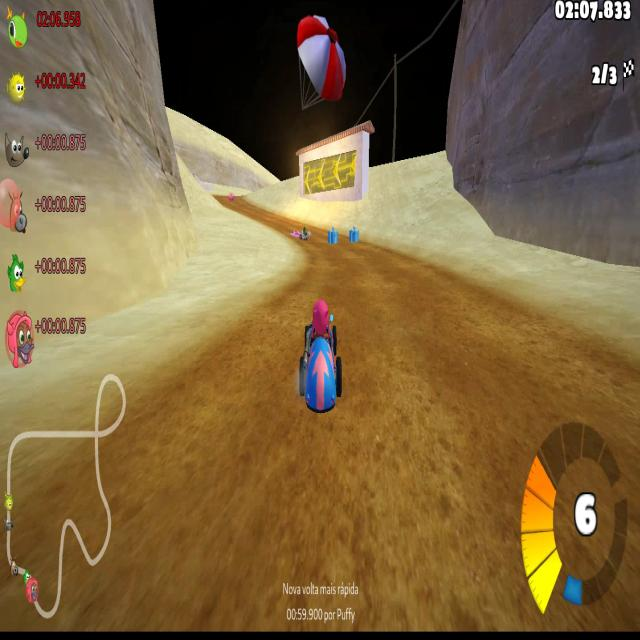bonus: (349, 224, 362, 248), (327, 225, 339, 247)
enemy_kart: (296, 228, 310, 245)
off_track: (105, 130, 221, 342), (384, 176, 553, 254), (225, 216, 285, 292)
track: (305, 250, 397, 302), (230, 198, 256, 214)
